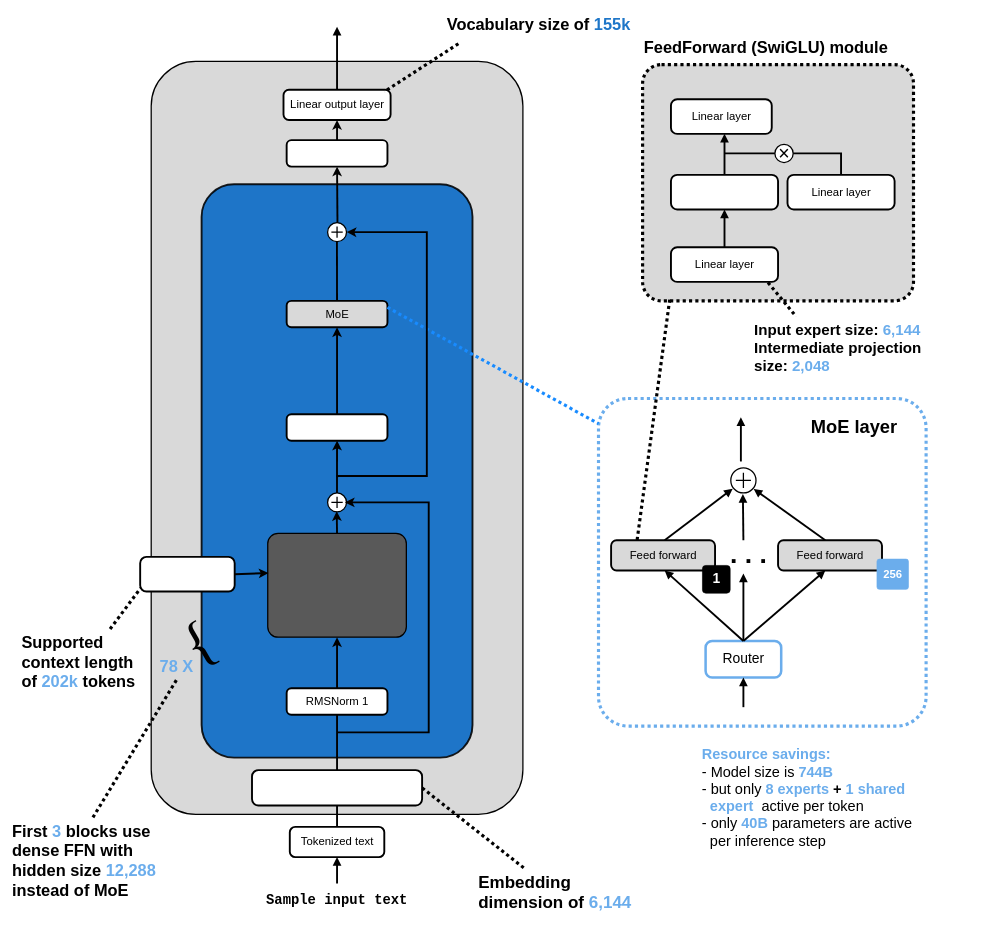
Image size: 1000x929. Some labels were removed from this diagram. Each missing label, with the centre of its shape:
Final RMSNorm: [336,153]
Multi-head Latent Attention(MLA) + DeepSeek Sparse Attention(DSA): [337,585]
RMSNorm 2: [336,427]
RoPE: [187,574]
SiLU activation: [724,192]
Token embedding layer: [337,787]
